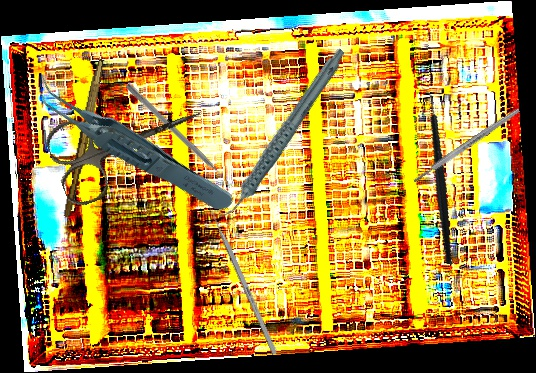Chopper: (379, 85, 493, 266)
Handpiece: (187, 46, 375, 222)
Iris Scissors: (41, 75, 216, 211)
Pusher: (204, 199, 278, 355), (124, 82, 232, 188)
Scalpel Handle: (411, 107, 522, 184), (62, 57, 105, 219)
Tissue Forceps: (28, 38, 238, 248)
